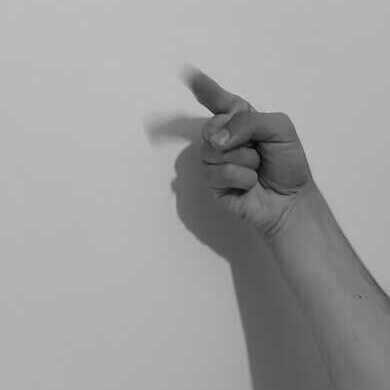Z: (175, 60, 311, 238)
